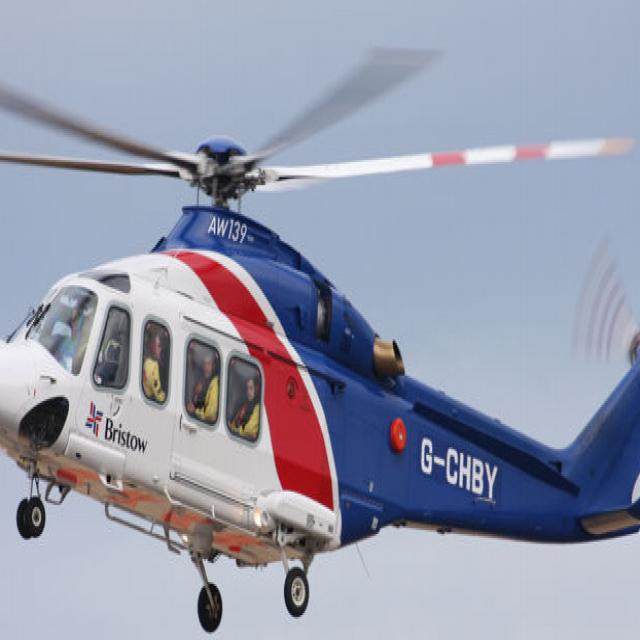helicopter: (1, 57, 640, 640)
